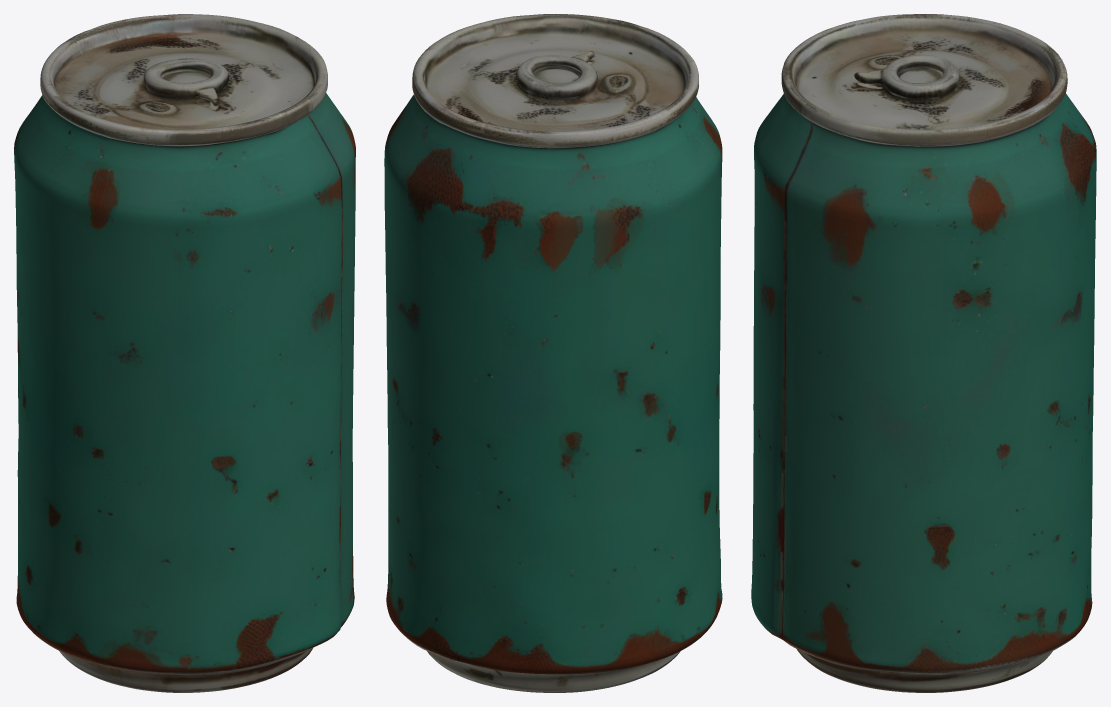
The model's file is tripo_convert_117bf2b6-c93d-438b-a412-b09bacb9b9da.fbx.
The picture shows the model from 3 angles, left to right: view 1: azimuth 30°, elevation 25°; view 2: azimuth 150°, elevation 25°; view 3: azimuth 270°, elevation 25°; orthographic projection.
Parts seen in each view (by area): view 1: tripo_node_117bf2b6; view 2: tripo_node_117bf2b6; view 3: tripo_node_117bf2b6.
Boxes of the visible parts, x1=… form: tripo_node_117bf2b6: x1=14, y1=14, x2=355, y2=692; tripo_node_117bf2b6: x1=384, y1=14, x2=722, y2=692; tripo_node_117bf2b6: x1=751, y1=14, x2=1096, y2=692.
Bounding box in the file's own units: 53.84 × 100 × 54.89.
1 material, 1 textured.
